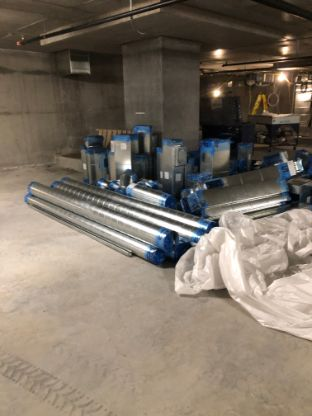Duct: (79, 127, 306, 225), (25, 168, 220, 273), (46, 46, 103, 82)
